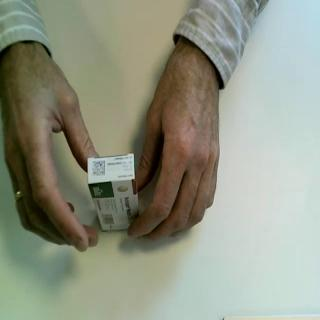nobligan_retard200mg: (87, 151, 142, 233)
